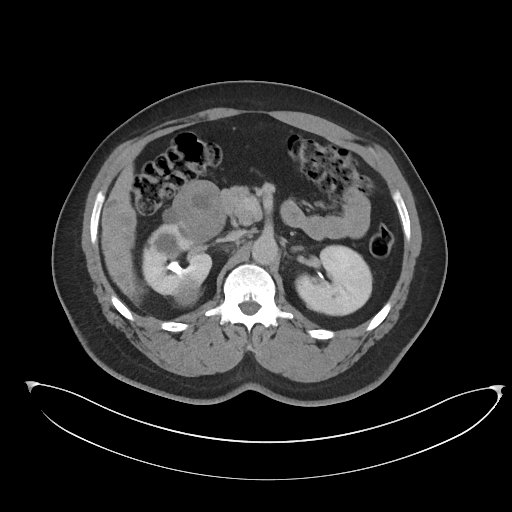Lesion: (171, 176, 230, 245)
